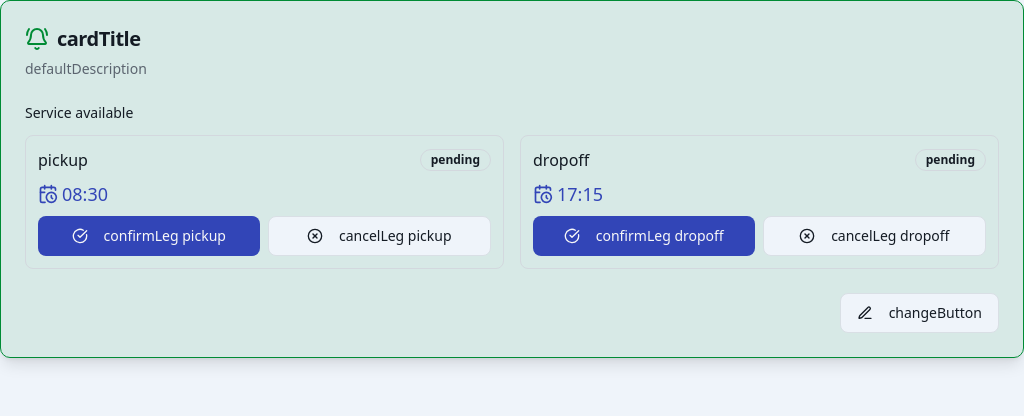
ScheduleConfirmationCard › reloads the legacy blocker after requesting a time change
This screenshot has width=1024, height=416.
Click the button "changeButton": coordinates (919, 313) [840,293,999,333]
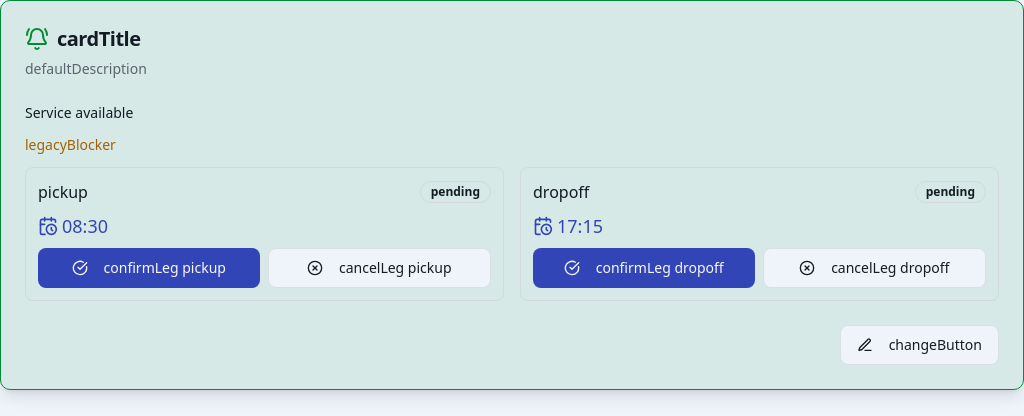
expect the text "legacyBlocker" is shown: met, box [25,135,116,154]
